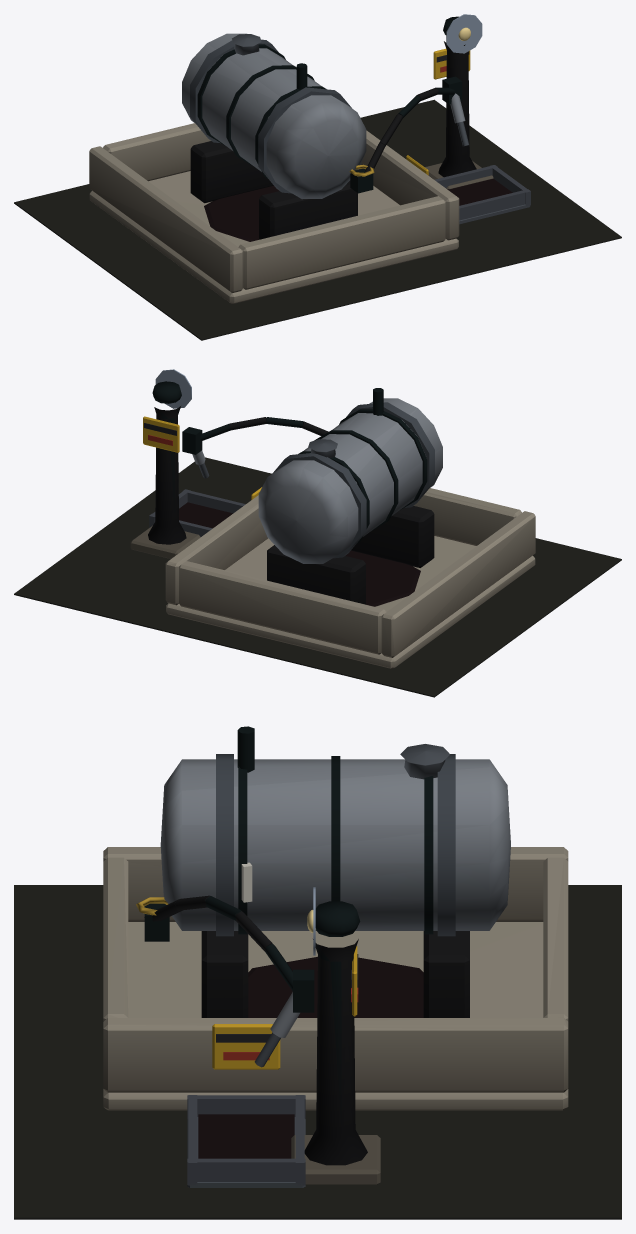
The model's file is diesel-fuel-point.glb.
3 renders of one model, top to bottom at view 1: azimuth 30°, elevation 25°; view 2: azimuth 150°, elevation 25°; view 3: azimuth 270°, elevation 25°, orthographic. The views are drawn at different scales.
Visible parts, largest first — view 1: diesel_fuel_point; view 2: diesel_fuel_point; view 3: diesel_fuel_point.
Boxes of the visible parts, x1,y1,x2,y2 form: diesel_fuel_point: (14,14,621,340); diesel_fuel_point: (14,369,621,697); diesel_fuel_point: (14,726,621,1219).
Bounding box in the file's own units: 4.4 × 1.81 × 3.4.
